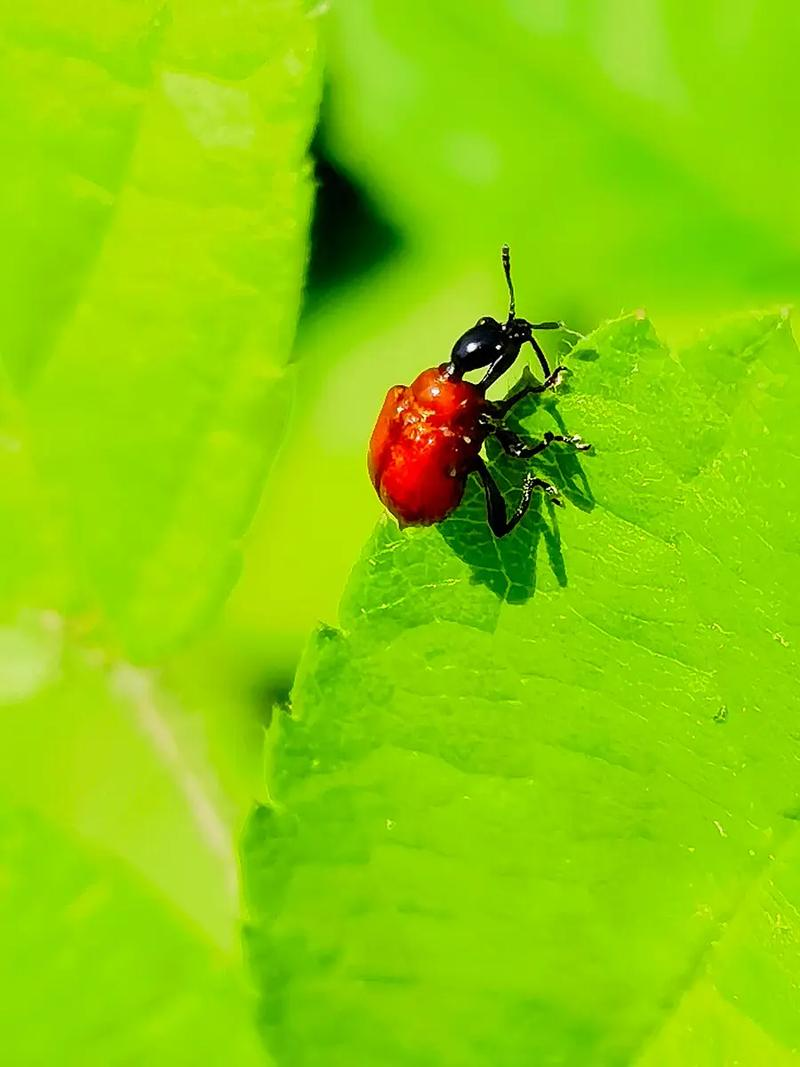Curculionidae: (365, 242, 592, 539)
